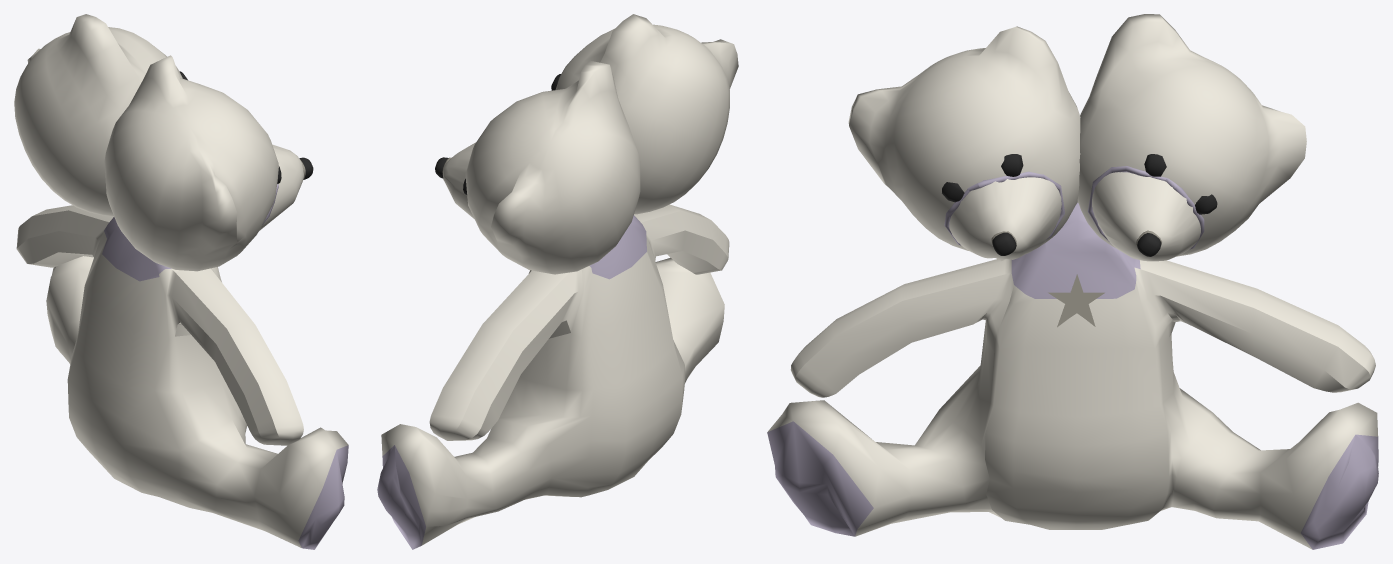
Rendered from heaven double headed bear 1.fbx.
The picture shows the model from 3 angles, left to right: view 1: azimuth 30°, elevation 25°; view 2: azimuth 150°, elevation 25°; view 3: azimuth 270°, elevation 25°; orthographic projection. The views are drawn at different scales.
Parts seen in each view (by area): view 1: pCube1, pSphere1 (×2), pSphere3; view 2: pCube1, pSphere1 (×2), pSphere3; view 3: pCube1, pSphere1 (×2), pSphere3 (×2), pCylinder1 (×2), pCube6.
Boxes of the visible parts, <box> form: pCube1: <box>16,205,348,549</box>; pSphere1 (×2): <box>14,14,278,271</box>; pSphere3: <box>259,144,303,230</box>; pCube1: <box>377,204,729,549</box>; pSphere1 (×2): <box>465,14,738,274</box>; pSphere3: <box>443,142,475,218</box>; pCube1: <box>767,202,1378,549</box>; pSphere1 (×2): <box>848,14,1306,256</box>; pSphere3 (×2): <box>949,172,1200,261</box>; pCylinder1 (×2): <box>944,166,1204,249</box>; pCube6: <box>1048,274,1104,327</box>.
Bounding box in the file's own units: 3.1 × 6.6 × 7.52.
